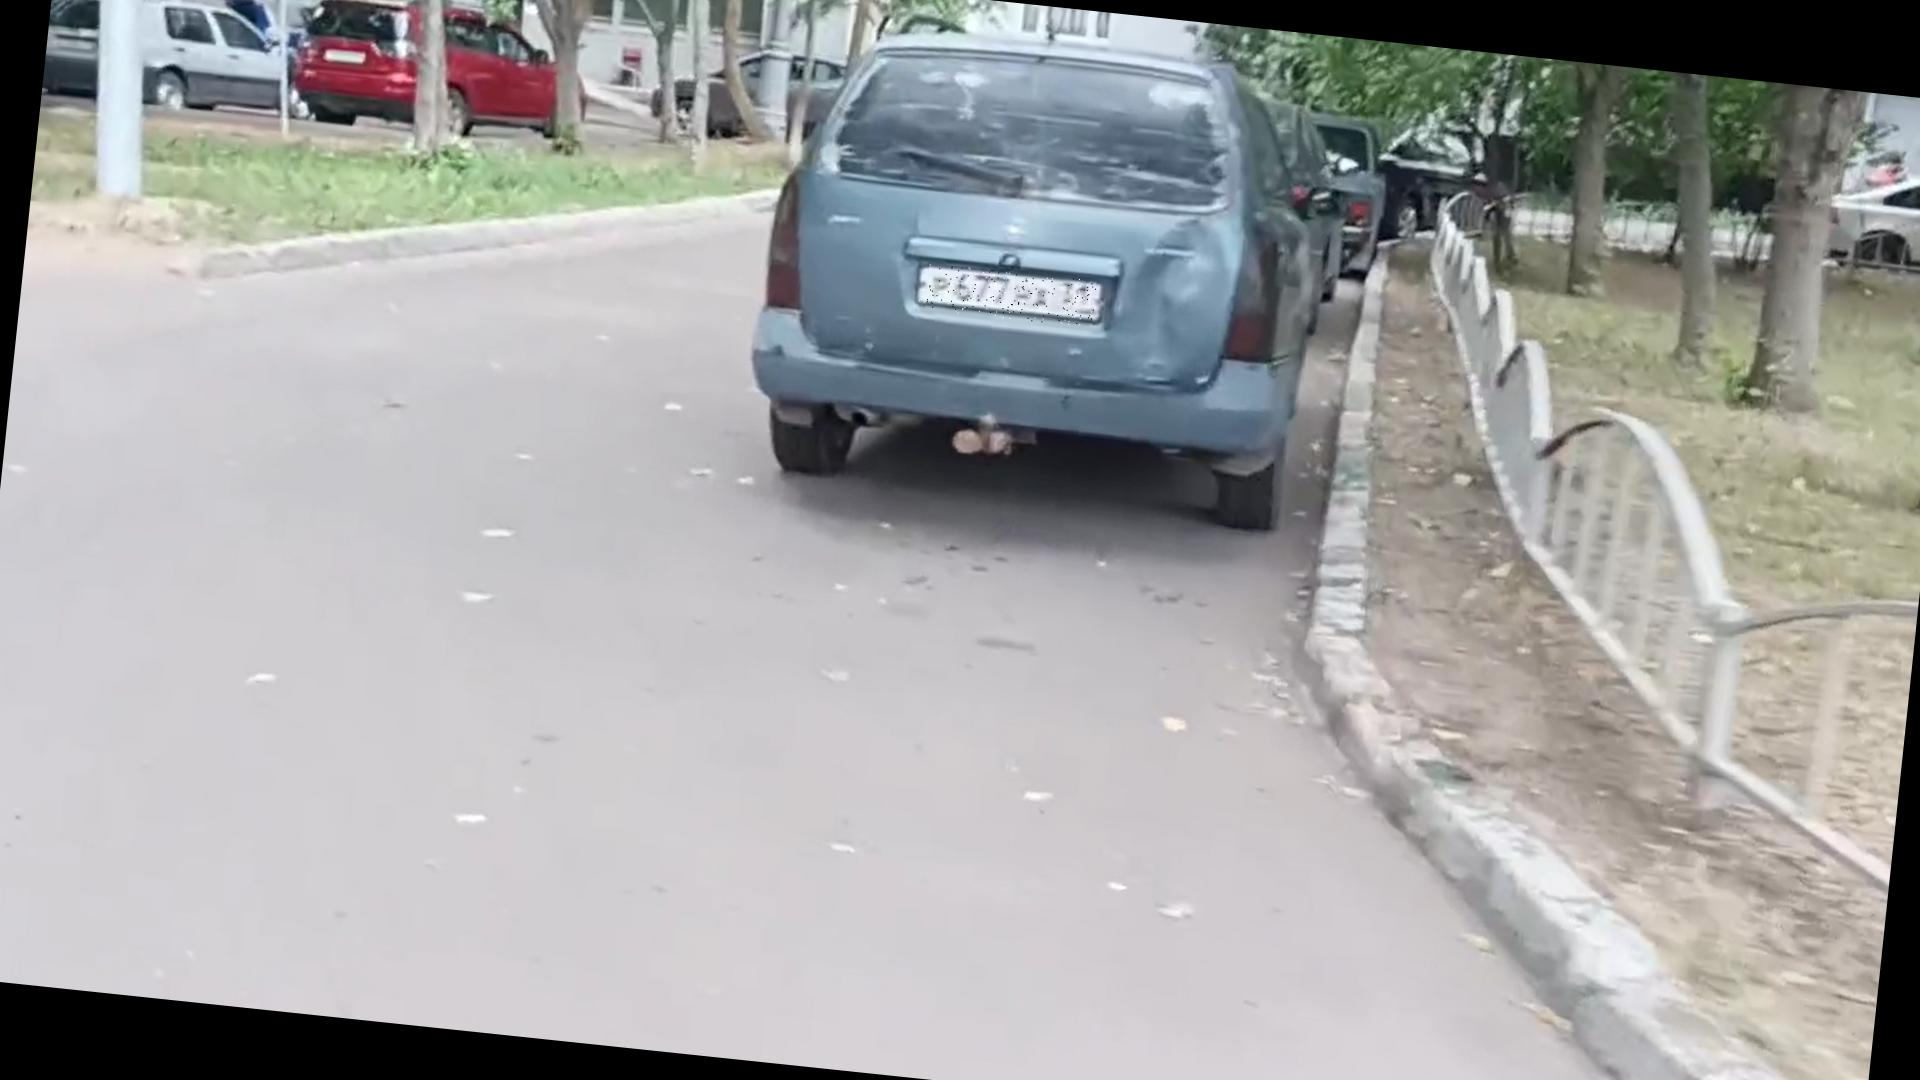plate: (926, 265, 1098, 329)
